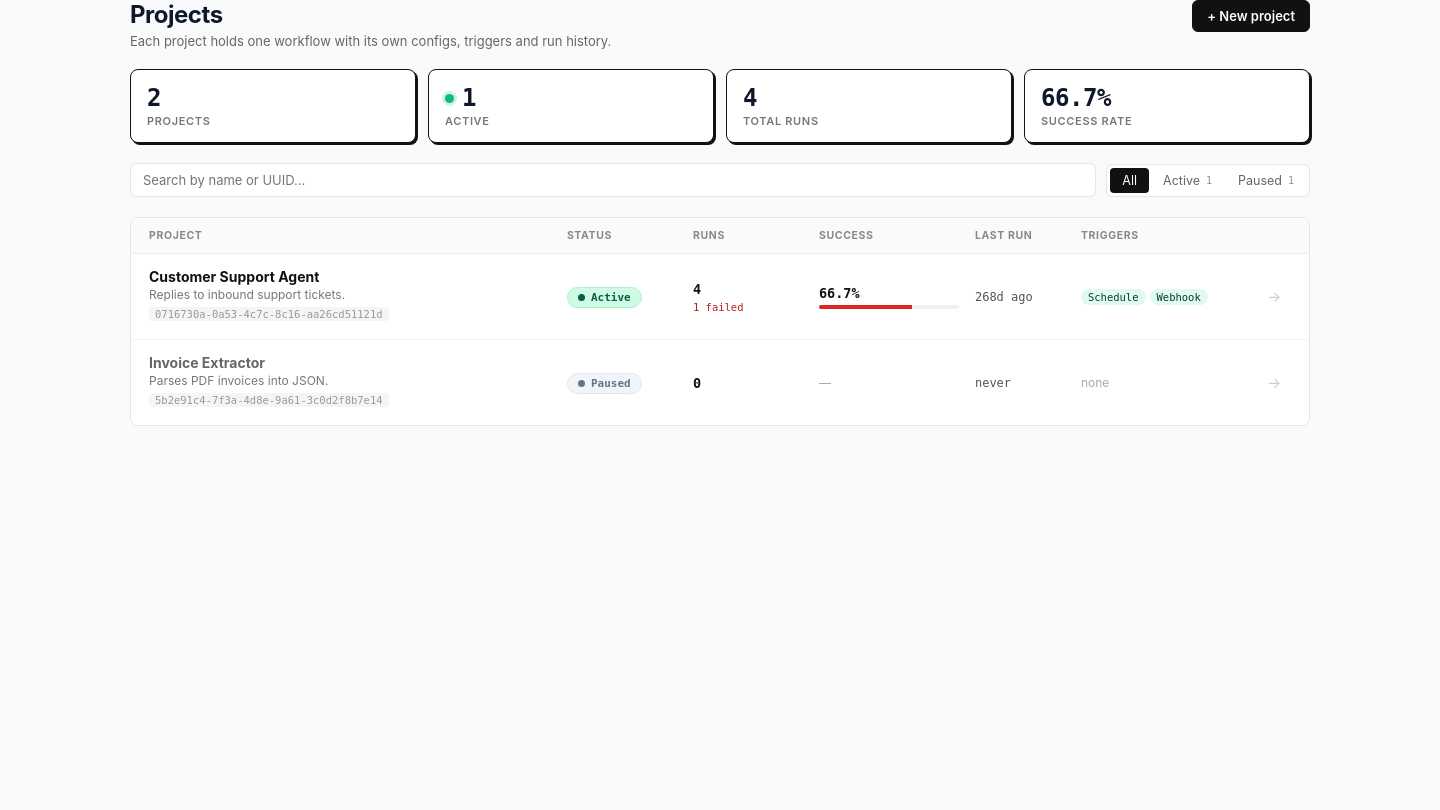
Test: new project modal › opens from the header and generates the id it says it will use
Click the button "+ New project".
click(1251, 16)  # box [1192, 0, 1310, 32]
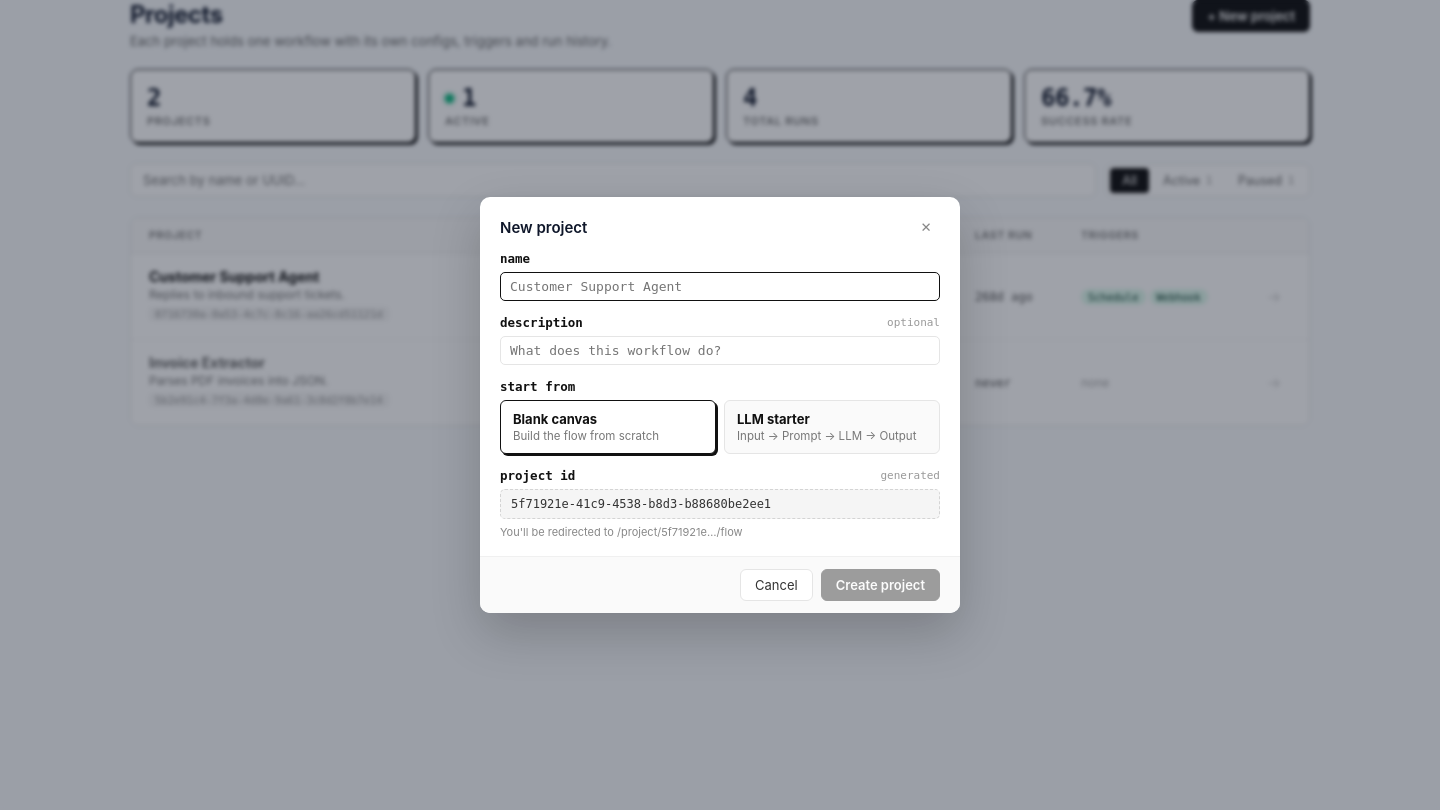
Now the dialog is shown, box [480, 197, 960, 613]
Now the text "5f71921e-41c9-4538-b8d3-b88680be2ee1" is shown, box [500, 489, 940, 519]
